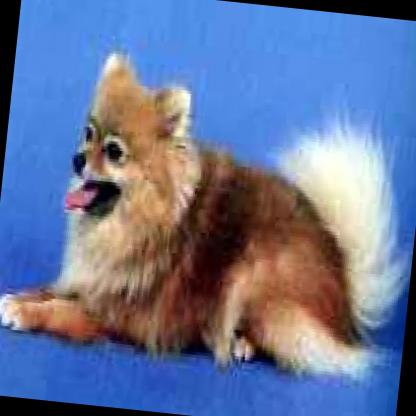Pomeranian: (0, 38, 412, 383)
